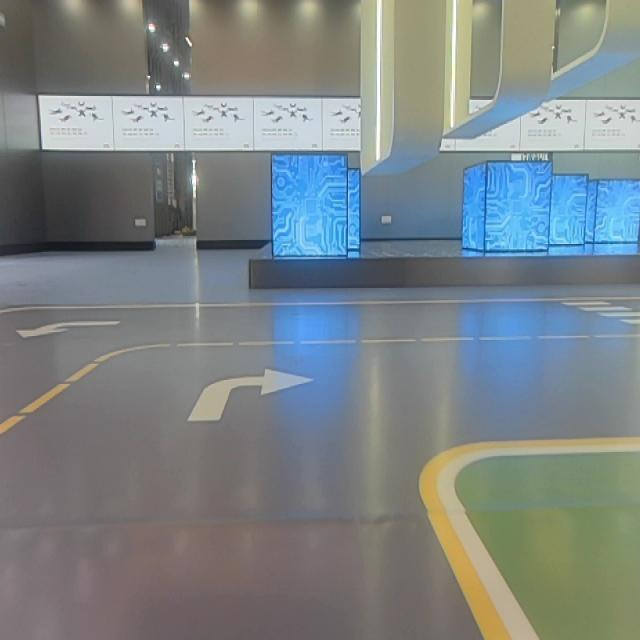left_lane: (1, 351, 107, 440)
right_lane: (420, 486, 510, 638)
